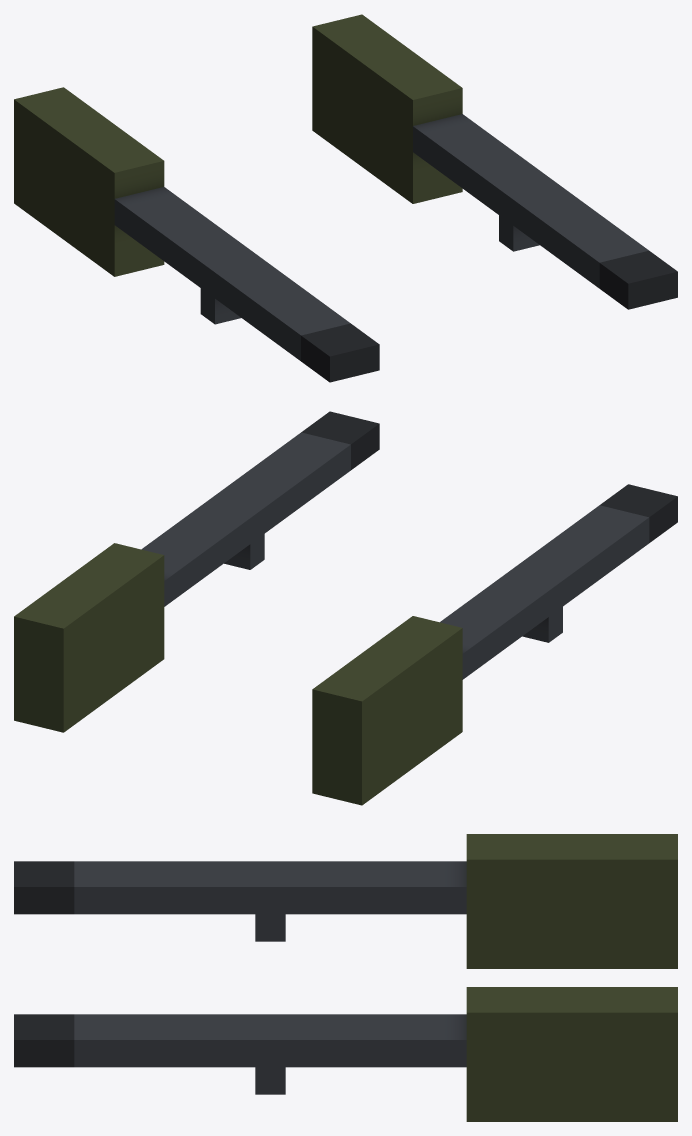
3 renders of one model, top to bottom at view 1: azimuth 30°, elevation 25°; view 2: azimuth 150°, elevation 25°; view 3: azimuth 270°, elevation 25°, orthographic. The views are drawn at different scales.
Visible parts, largest first — view 1: cm_aa_g_5_body; view 2: cm_aa_g_5_body; view 3: cm_aa_g_5_body.
Boxes of the visible parts, x1=… form: cm_aa_g_5_body: x1=14, y1=14, x2=677, y2=382; cm_aa_g_5_body: x1=14, y1=411, x2=677, y2=805; cm_aa_g_5_body: x1=14, y1=834, x2=677, y2=1121.
Size of the model in its own units: 0.875 by 0.25 by 1.38.
1 material, 1 textured.
